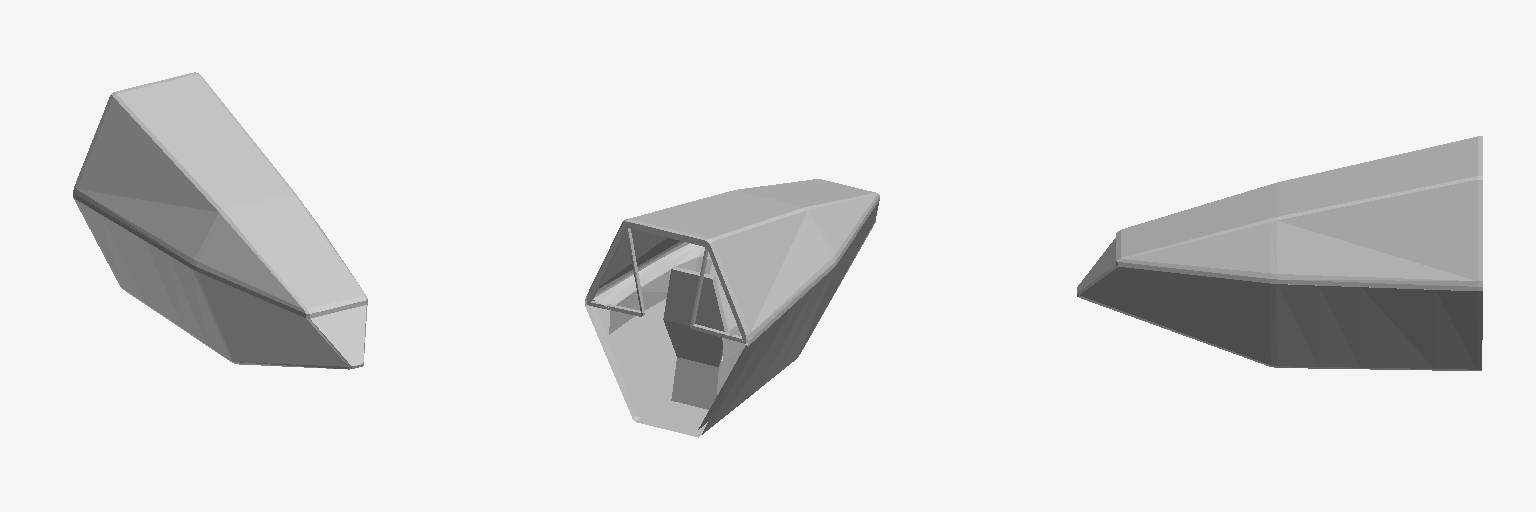
File: spaceship-cockpit.obj
The picture shows the model from 3 angles: view 1: azimuth 30°, elevation 25°; view 2: azimuth 150°, elevation 25°; view 3: azimuth 270°, elevation 25°; orthographic projection.
Visible parts, largest first — view 1: spaceship-cockpit; view 2: spaceship-cockpit; view 3: spaceship-cockpit.
Boxes of the visible parts, <box> form: spaceship-cockpit: <box>73,72,367,369</box>; spaceship-cockpit: <box>585,179,879,437</box>; spaceship-cockpit: <box>1077,136,1482,370</box>.
Bounding box in the file's own units: 1.82 × 2.12 × 3.92.